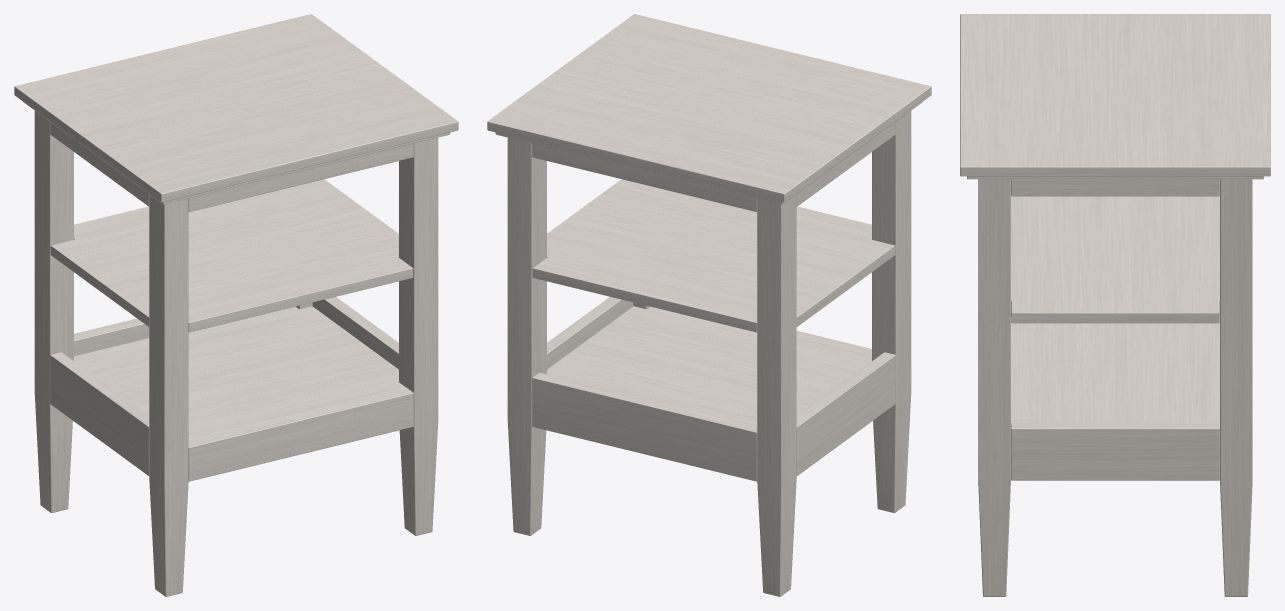
Rendered from small_white_nightstand.glb.
3 views of the same model, side by side, from view 1: azimuth 30°, elevation 25°; view 2: azimuth 150°, elevation 25°; view 3: azimuth 270°, elevation 25° (orthographic). The views are drawn at different scales.
Visible parts, largest first — view 1: Tabletop_46x36cm, Middle_notched_shelf, Lower_notched_shelf, Front_left_tapered_leg, Front_right_tapered_leg, Rear_left_tapered_leg, Lower_front_rail_clearance_17cm, Left_lower_side_rail_and_shallow_rim, Front_upper_apron, Right_lower_side_rail_and_shallow_rim, Lower_rear_rail_and_shallow_rim, Left_upper_apron (+1 smaller); view 2: Tabletop_46x36cm, Middle_notched_shelf, Lower_notched_shelf, Rear_left_tapered_leg, Rear_right_tapered_leg, Lower_rear_rail_and_shallow_rim, Front_left_tapered_leg, Left_lower_side_rail_and_shallow_rim, Rear_upper_apron, Right_lower_side_rail_and_shallow_rim, Left_upper_apron, Thin_recessed_under_top_lip (+1 smaller); view 3: Tabletop_46x36cm, Middle_notched_shelf, Lower_notched_shelf, Front_right_tapered_leg, Rear_right_tapered_leg, Right_lower_side_rail_and_shallow_rim, Right_upper_apron, Thin_recessed_under_top_lip.
Part boxes in pixels (x1=…): Tabletop_46x36cm: x1=14, y1=14, x2=458, y2=202; Middle_notched_shelf: x1=50, y1=179, x2=413, y2=332; Lower_notched_shelf: x1=74, y1=306, x2=405, y2=440; Front_left_tapered_leg: x1=149, y1=194, x2=188, y2=596; Front_right_tapered_leg: x1=399, y1=137, x2=438, y2=535; Rear_left_tapered_leg: x1=34, y1=111, x2=73, y2=512; Lower_front_rail_clearance_17cm: x1=188, y1=387, x2=413, y2=481; Left_lower_side_rail_and_shallow_rim: x1=50, y1=352, x2=149, y2=475; Front_upper_apron: x1=188, y1=143, x2=413, y2=211; Right_lower_side_rail_and_shallow_rim: x1=312, y1=297, x2=398, y2=369; Lower_rear_rail_and_shallow_rim: x1=74, y1=318, x2=149, y2=356; Left_upper_apron: x1=50, y1=122, x2=149, y2=206; Tabletop_46x36cm: x1=487, y1=14, x2=931, y2=202; Middle_notched_shelf: x1=532, y1=179, x2=895, y2=332; Lower_notched_shelf: x1=547, y1=306, x2=871, y2=425; Rear_left_tapered_leg: x1=757, y1=194, x2=796, y2=596; Rear_right_tapered_leg: x1=507, y1=137, x2=546, y2=535; Lower_rear_rail_and_shallow_rim: x1=532, y1=372, x2=757, y2=481; Front_left_tapered_leg: x1=872, y1=111, x2=911, y2=512; Left_lower_side_rail_and_shallow_rim: x1=796, y1=352, x2=895, y2=475; Rear_upper_apron: x1=532, y1=143, x2=757, y2=211; Right_lower_side_rail_and_shallow_rim: x1=547, y1=297, x2=633, y2=369; Left_upper_apron: x1=796, y1=122, x2=895, y2=206; Thin_recessed_under_top_lip: x1=495, y1=102, x2=922, y2=204; Tabletop_46x36cm: x1=960, y1=14, x2=1270, y2=176; Middle_notched_shelf: x1=1011, y1=196, x2=1219, y2=323; Lower_notched_shelf: x1=1011, y1=316, x2=1219, y2=422; Front_right_tapered_leg: x1=978, y1=179, x2=1010, y2=596; Rear_right_tapered_leg: x1=1220, y1=179, x2=1252, y2=596; Right_lower_side_rail_and_shallow_rim: x1=1011, y1=423, x2=1219, y2=480; Right_upper_apron: x1=1011, y1=179, x2=1219, y2=196; Thin_recessed_under_top_lip: x1=967, y1=176, x2=1263, y2=179.
Size of the model in its own units: 0.42 by 0.56 by 0.36.
Materials: 2 (2 with a texture image).
